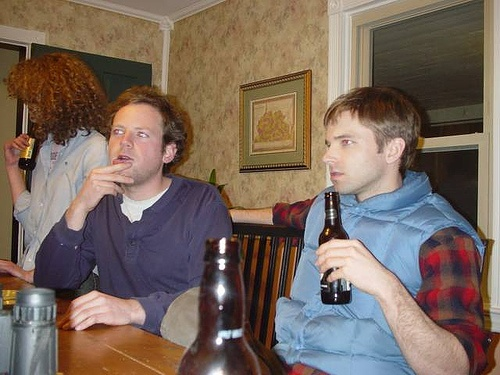head: (323, 85, 409, 196), (102, 86, 181, 194)
person: (228, 85, 491, 374), (13, 82, 226, 341), (4, 51, 110, 276)
